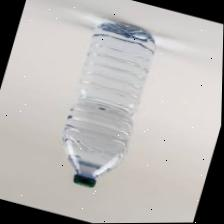plastic: (63, 23, 156, 187)
